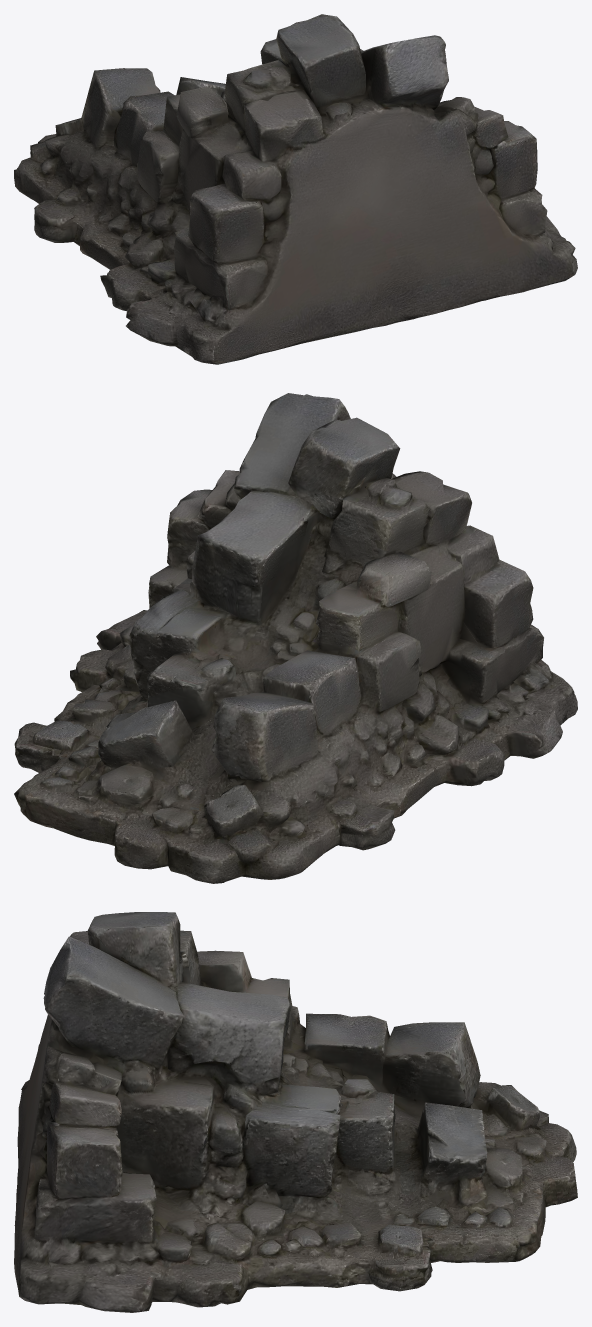
File: cave-in-rubble.glb
3 views of the same model, one above another, from view 1: azimuth 30°, elevation 25°; view 2: azimuth 150°, elevation 25°; view 3: azimuth 270°, elevation 25° (orthographic). The views are drawn at different scales.
Parts seen in each view (by area): view 1: tripo_node_9c39bf18-9c61-42cb-907d-66561e0b2ace; view 2: tripo_node_9c39bf18-9c61-42cb-907d-66561e0b2ace; view 3: tripo_node_9c39bf18-9c61-42cb-907d-66561e0b2ace.
Part boxes in pixels (box(x1,y1,x2,y2)): tripo_node_9c39bf18-9c61-42cb-907d-66561e0b2ace: box(14, 14, 577, 364); tripo_node_9c39bf18-9c61-42cb-907d-66561e0b2ace: box(14, 393, 577, 883); tripo_node_9c39bf18-9c61-42cb-907d-66561e0b2ace: box(14, 912, 577, 1312).
Bounding box in the file's own units: 0.9358 × 0.5492 × 1.
1 material, 1 textured.
